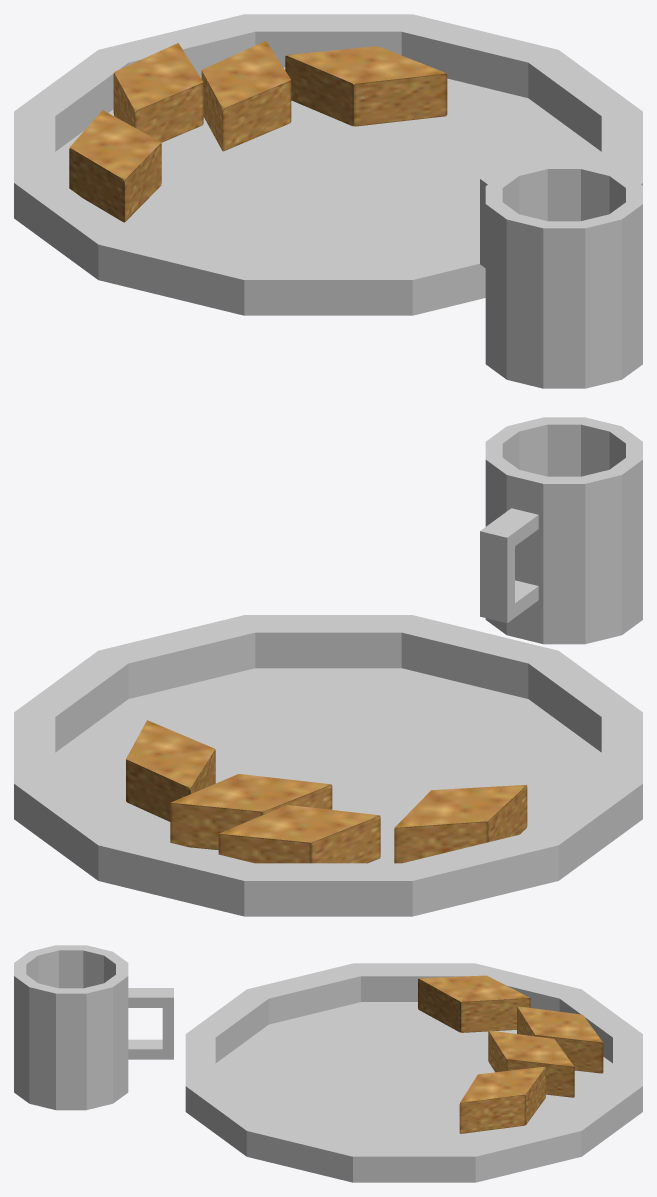
The model's file is spureshkoi.fbx.
The picture shows the model from 3 angles, top to bottom: view 1: azimuth 30°, elevation 25°; view 2: azimuth 150°, elevation 25°; view 3: azimuth 270°, elevation 25°; orthographic projection. The views are drawn at different scales.
Visible parts, largest first — view 1: tube, circle, tube_1, ne romb_1, ne romb_2, ne romb, ne romb_3, cylinder, cube_2; view 2: tube, circle, tube_1, ne romb_3, ne romb_2, ne romb, ne romb_1, cube_2, cylinder, cube; view 3: tube, circle, tube_1, ne romb_2, ne romb_1, ne romb, ne romb_3, cylinder, cube_2, cube_1, cube.
Boxes of the visible parts, x1=… form: tube: x1=14, y1=14, x2=642, y2=315; circle: x1=55, y1=67, x2=601, y2=262; tube_1: x1=485, y1=162, x2=642, y2=370; ne romb_1: x1=285, y1=46, x2=447, y2=126; ne romb_2: x1=69, y1=110, x2=161, y2=222; ne romb: x1=201, y1=41, x2=291, y2=151; ne romb_3: x1=113, y1=43, x2=203, y2=142; cylinder: x1=485, y1=347, x2=642, y2=388; cube_2: x1=480, y1=173, x2=503, y2=267; tube: x1=14, y1=615, x2=642, y2=916; circle: x1=55, y1=668, x2=601, y2=863; tube_1: x1=485, y1=417, x2=642, y2=626; ne romb_3: x1=218, y1=805, x2=380, y2=863; ne romb_2: x1=394, y1=785, x2=527, y2=863; ne romb: x1=170, y1=774, x2=332, y2=849; ne romb_1: x1=126, y1=720, x2=215, y2=821; cube_2: x1=480, y1=525, x2=514, y2=623; cylinder: x1=485, y1=602, x2=642, y2=644; cube: x1=488, y1=508, x2=538, y2=545; tube: x1=185, y1=963, x2=642, y2=1182; circle: x1=215, y1=1002, x2=612, y2=1143; tube_1: x1=14, y1=945, x2=128, y2=1097; ne romb_2: x1=418, y1=975, x2=530, y2=1032; ne romb_1: x1=459, y1=1066, x2=545, y2=1133; ne romb: x1=488, y1=1030, x2=574, y2=1097; ne romb_3: x1=517, y1=1006, x2=603, y2=1073; cylinder: x1=14, y1=1080, x2=128, y2=1110; cube_2: x1=162, y1=988, x2=173, y2=1059; cube_1: x1=128, y1=1039, x2=162, y2=1059; cube: x1=128, y1=988, x2=162, y2=1007.
Size of the model in its own units: 25 by 7.03 by 34.38.
Materials: 2 (2 with a texture image).
